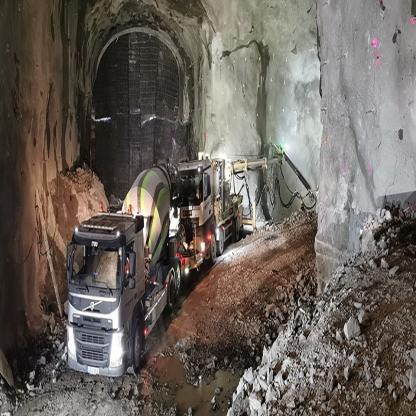dump_truck: (64, 157, 192, 385), (171, 143, 255, 267)
